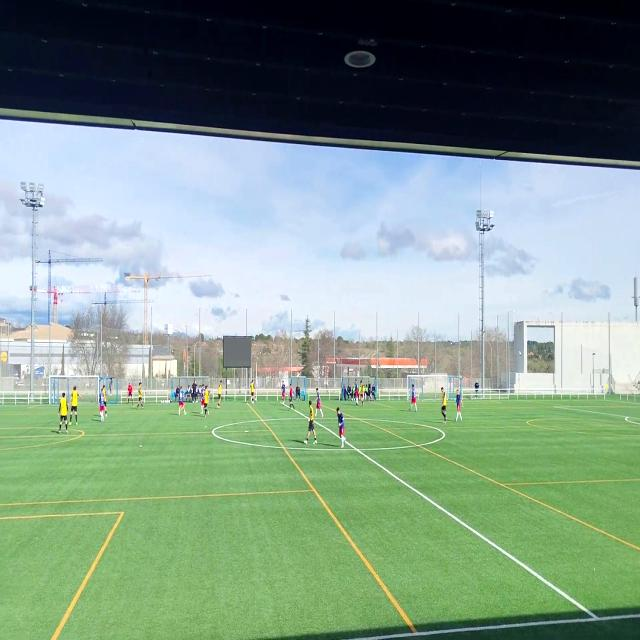bigarea_top_inner: (552, 403, 558, 411)
corner: (602, 397, 606, 403)
halfcircle_bottom: (351, 442, 361, 456)
midline_top_intersection: (278, 400, 283, 406)
top_arc_area_intersection: (624, 412, 633, 422)
